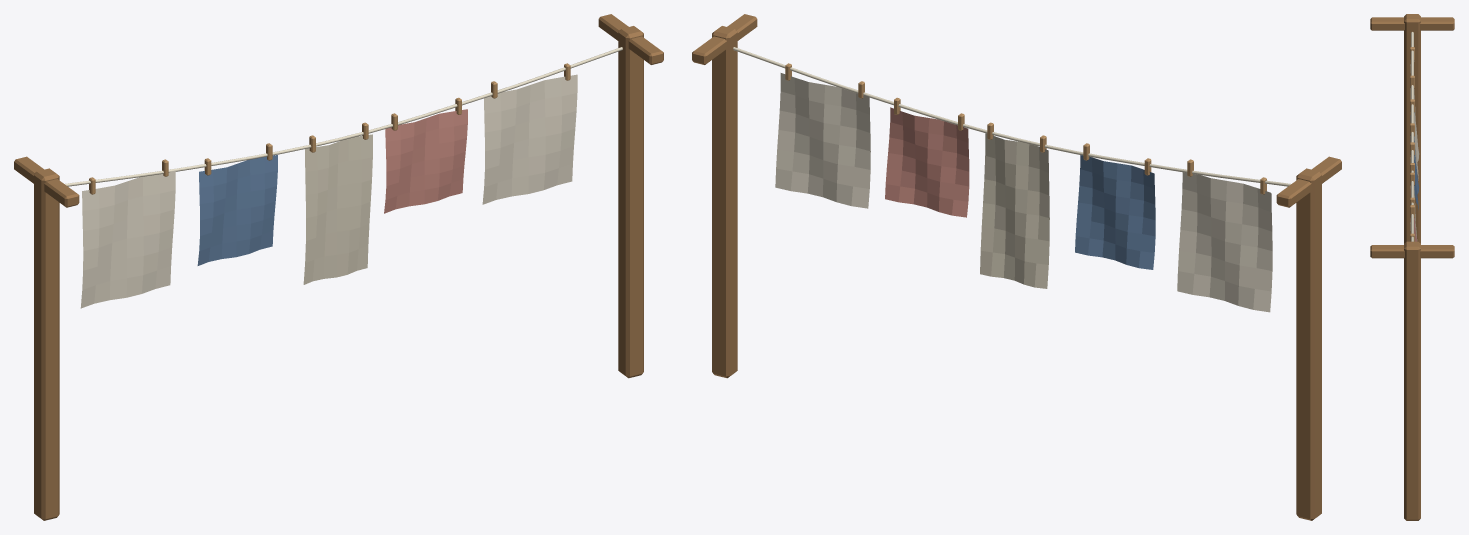
The picture shows the model from 3 angles, left to right: view 1: azimuth 30°, elevation 25°; view 2: azimuth 150°, elevation 25°; view 3: azimuth 270°, elevation 25°; orthographic projection. The views are drawn at different scales.
Parts seen in each view (by area): view 1: lane_wood, cloth_0, cloth_4, cloth_2, cloth_1, cloth_3, lane_linen, lane_wood_light; view 2: lane_wood, cloth_0, cloth_4, cloth_2, cloth_1, cloth_3, lane_linen, lane_wood_light; view 3: lane_wood, lane_wood_light, lane_linen, cloth_0, cloth_1.
Boxes of the visible parts, <box> form: lane_wood: <box>14,14,663,520</box>; cloth_0: <box>80,170,175,308</box>; cloth_4: <box>482,74,577,204</box>; cloth_2: <box>303,134,372,284</box>; cloth_1: <box>197,155,277,265</box>; cloth_3: <box>384,109,467,213</box>; lane_linen: <box>65,47,622,186</box>; lane_wood_light: <box>89,63,570,194</box>; lane_wood: <box>692,14,1341,520</box>; cloth_0: <box>1177,172,1272,312</box>; cloth_4: <box>775,73,870,208</box>; cloth_2: <box>980,133,1049,288</box>; cloth_1: <box>1075,155,1155,269</box>; cloth_3: <box>885,107,969,217</box>; lane_linen: <box>733,47,1290,186</box>; lane_wood_light: <box>785,63,1266,194</box>; lane_wood: <box>1370,14,1454,520</box>; lane_wood_light: <box>1410,47,1414,241</box>; lane_linen: <box>1411,32,1413,241</box>; cloth_0: <box>1410,60,1419,180</box>; cloth_1: <box>1410,115,1419,209</box>.
Bounding box in the file's own units: 3.3 × 1.8 × 0.5.
